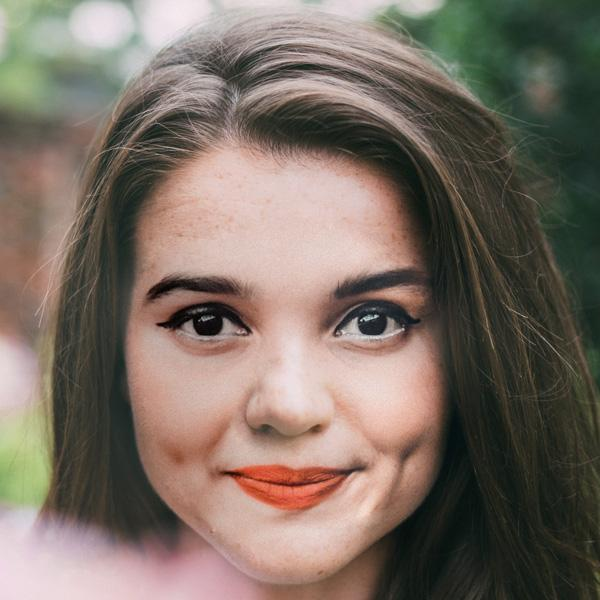Eyes: (154, 296, 259, 353), (323, 294, 420, 354)
